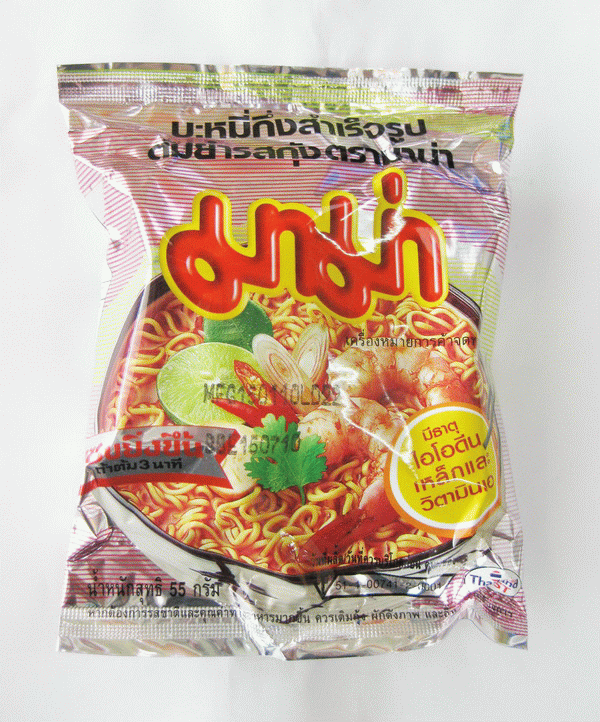Snack: (39, 47, 545, 672)
